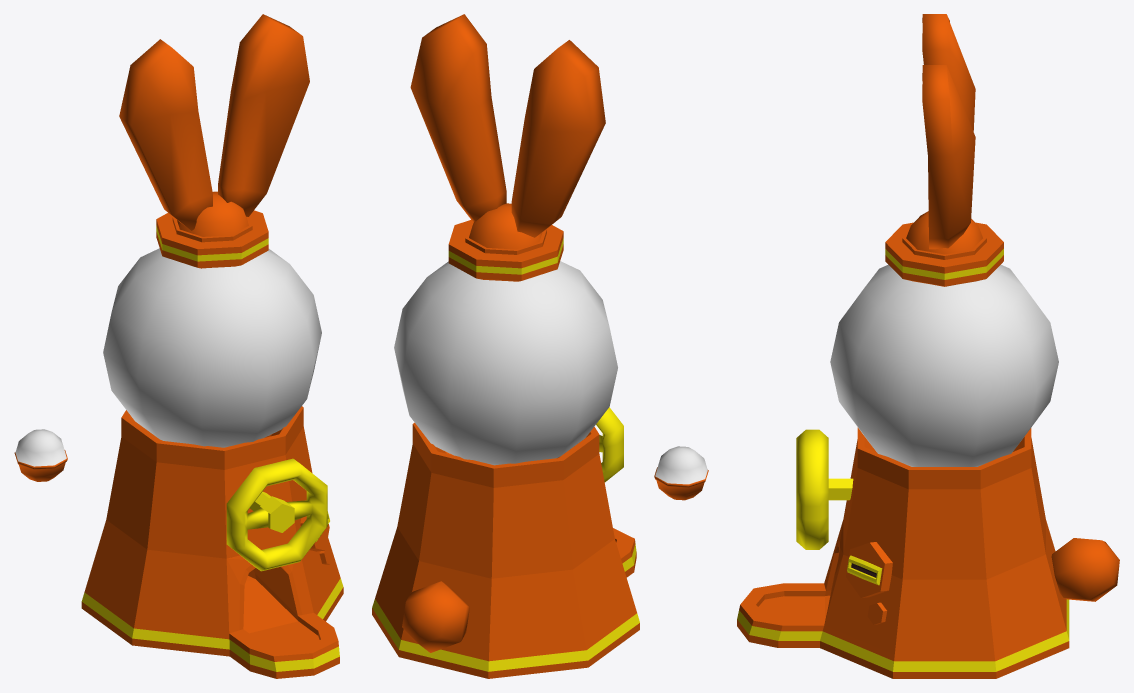
The model's file is GtyaGatya.fbx.
The picture shows the model from 3 angles, left to right: view 1: azimuth 30°, elevation 25°; view 2: azimuth 150°, elevation 25°; view 3: azimuth 270°, elevation 25°; orthographic projection. The views are drawn at different scales.
Visible parts, largest first — view 1: body, handle, ball_000; view 2: body, ball_000, handle; view 3: body, handle.
Part boxes in pixels (box(x1,y1,x2,y2)): body: box(81, 14, 343, 678); handle: box(226, 458, 327, 571); ball_000: box(14, 429, 67, 481); body: box(372, 14, 639, 678); ball_000: box(654, 446, 708, 500); handle: box(596, 407, 623, 482); body: box(737, 14, 1119, 678); handle: box(796, 429, 853, 549).
Bounding box in the file's own units: 123 × 224 × 132.
